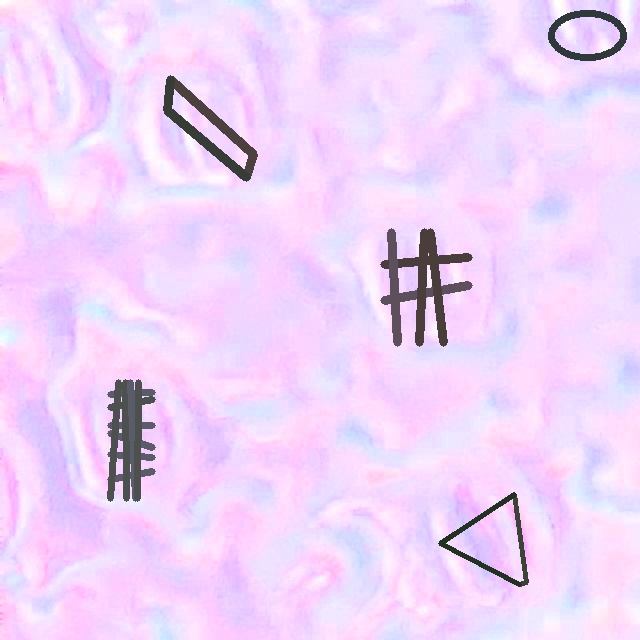open: (380, 229, 472, 346), (163, 75, 257, 181), (438, 492, 527, 585), (108, 379, 154, 500), (547, 9, 627, 61)
